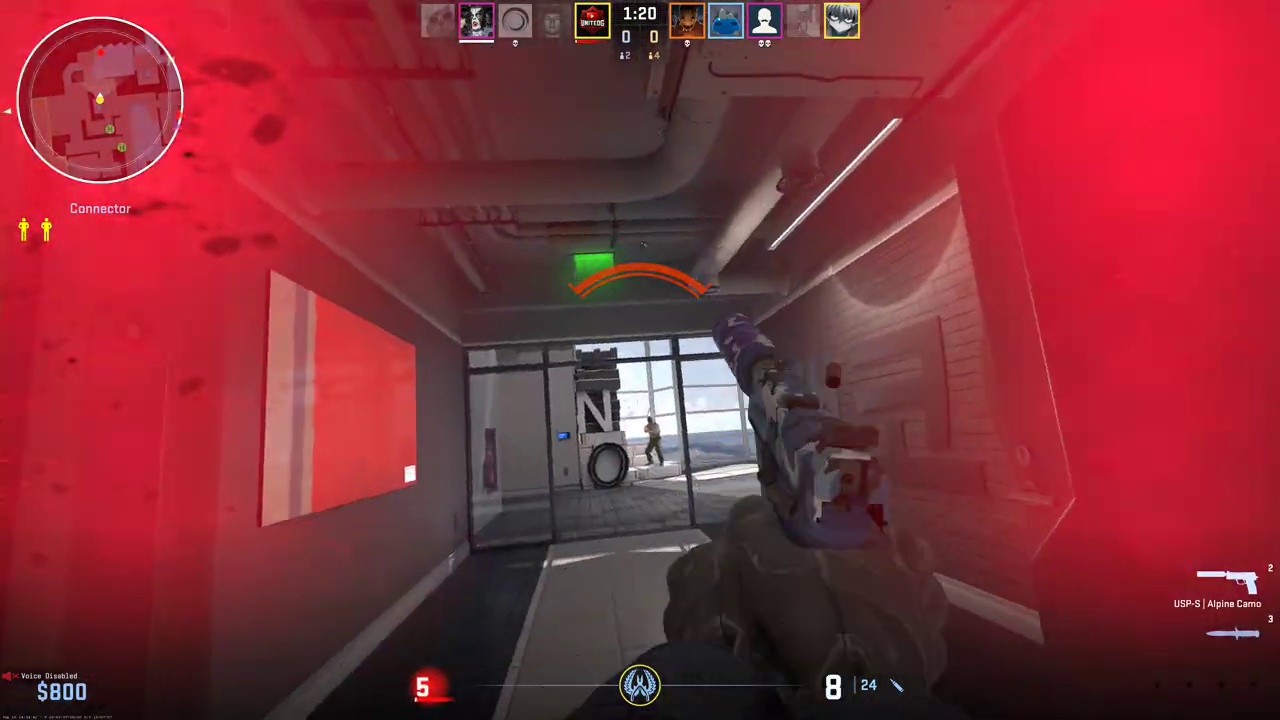Terrorist: (644, 417, 661, 467)
